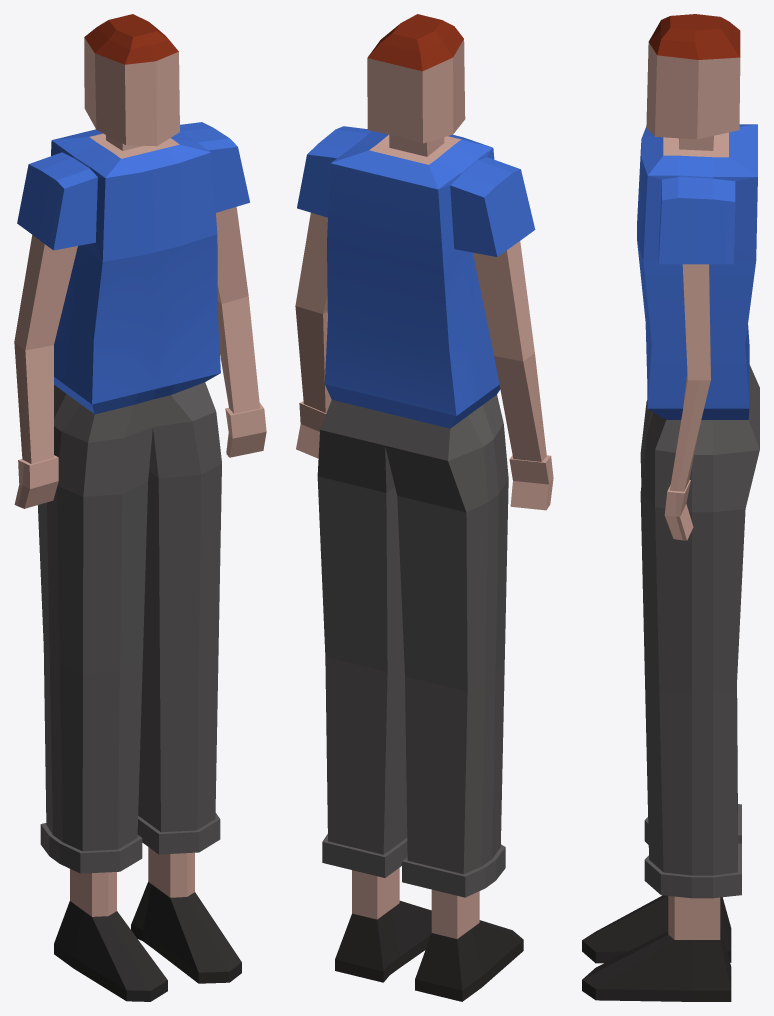
File: PedestrianMale_M_v1_Carrie.FBX
3 views of the same model, side by side, from view 1: azimuth 30°, elevation 25°; view 2: azimuth 150°, elevation 25°; view 3: azimuth 270°, elevation 25° (orthographic). The views are drawn at different scales.
Parts seen in each view (by area): view 1: P_M; view 2: P_M; view 3: P_M.
Part boxes in pixels (x1=…): P_M: x1=14, y1=14, x2=266, y2=1001; P_M: x1=295, y1=14, x2=553, y2=1001; P_M: x1=582, y1=14, x2=759, y2=1001.
Bounding box in the file's own units: 148 × 533 × 90.52.
